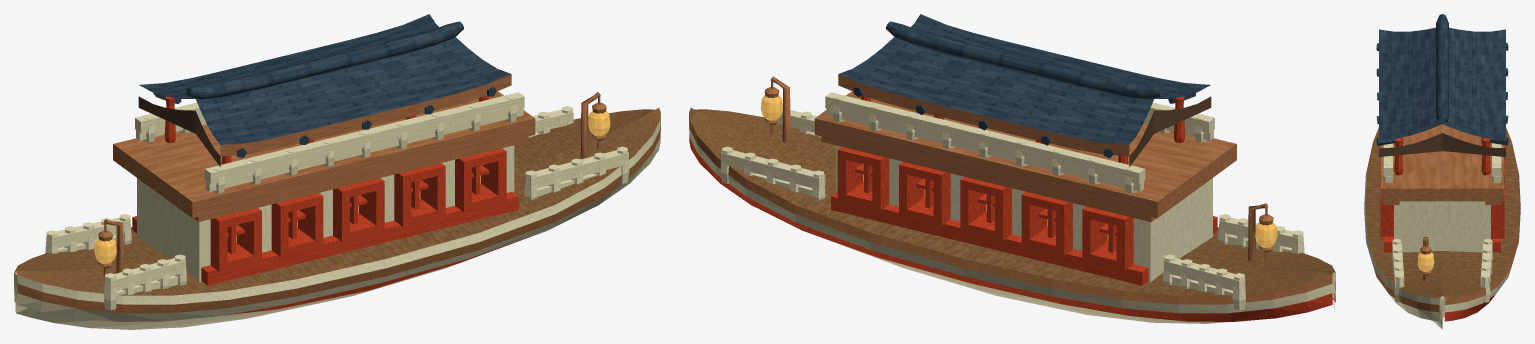
The model's file is fuji_pleasure_boat_mid.glb.
The picture shows the model from 3 angles, left to right: view 1: azimuth 30°, elevation 25°; view 2: azimuth 150°, elevation 25°; view 3: azimuth 270°, elevation 25°; orthographic projection. The views are drawn at different scales.
Visible parts, largest first — view 1: fuji_pleasure_boat_mid; view 2: fuji_pleasure_boat_mid; view 3: fuji_pleasure_boat_mid.
Part boxes in pixels (x1,y1,x2,y2): fuji_pleasure_boat_mid: (14, 14, 660, 329); fuji_pleasure_boat_mid: (689, 14, 1335, 323); fuji_pleasure_boat_mid: (1364, 14, 1520, 329).
Size of the model in its own units: 12.5 by 4.6 by 3.4.
2 materials, 2 textured.
